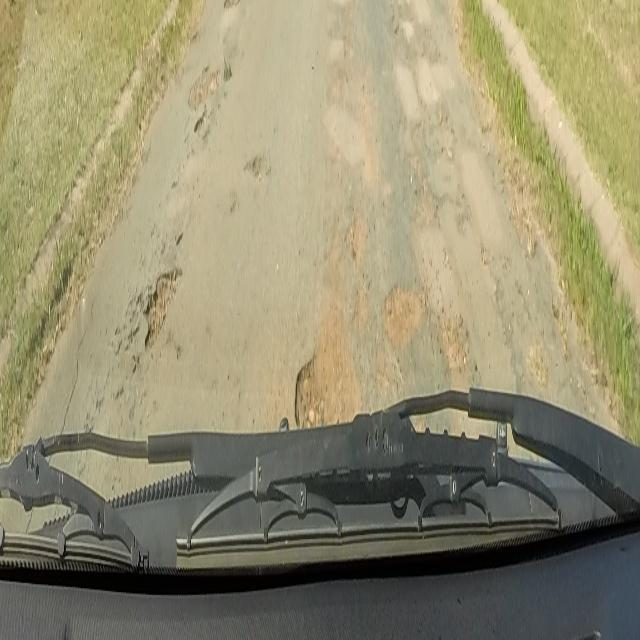pothole: (294, 329, 362, 433), (138, 263, 184, 356), (186, 58, 220, 138), (379, 282, 422, 342), (249, 146, 271, 181)
